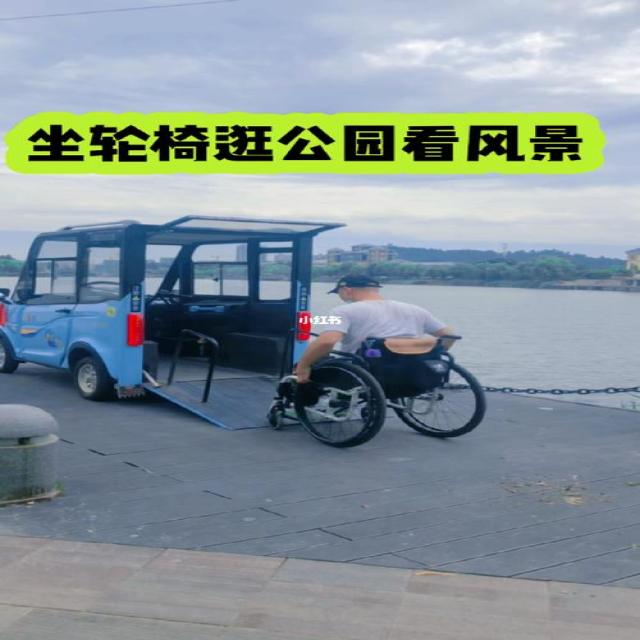wheelchairs: (258, 326, 492, 451)
